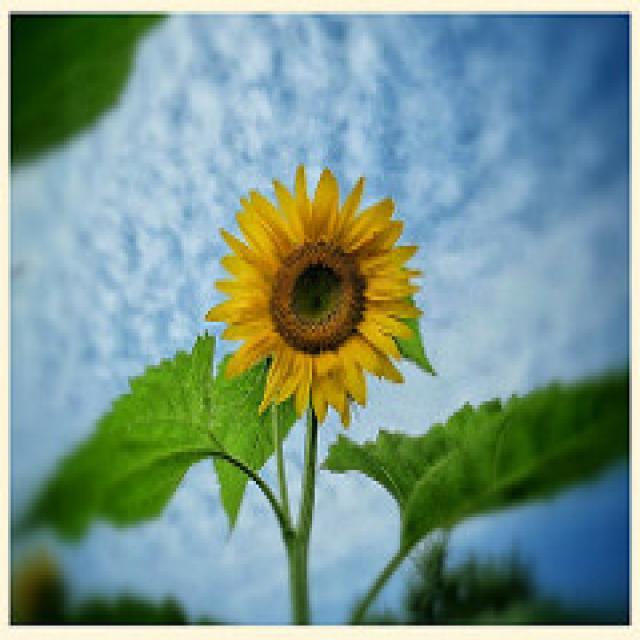sunflower: (202, 157, 434, 432)
